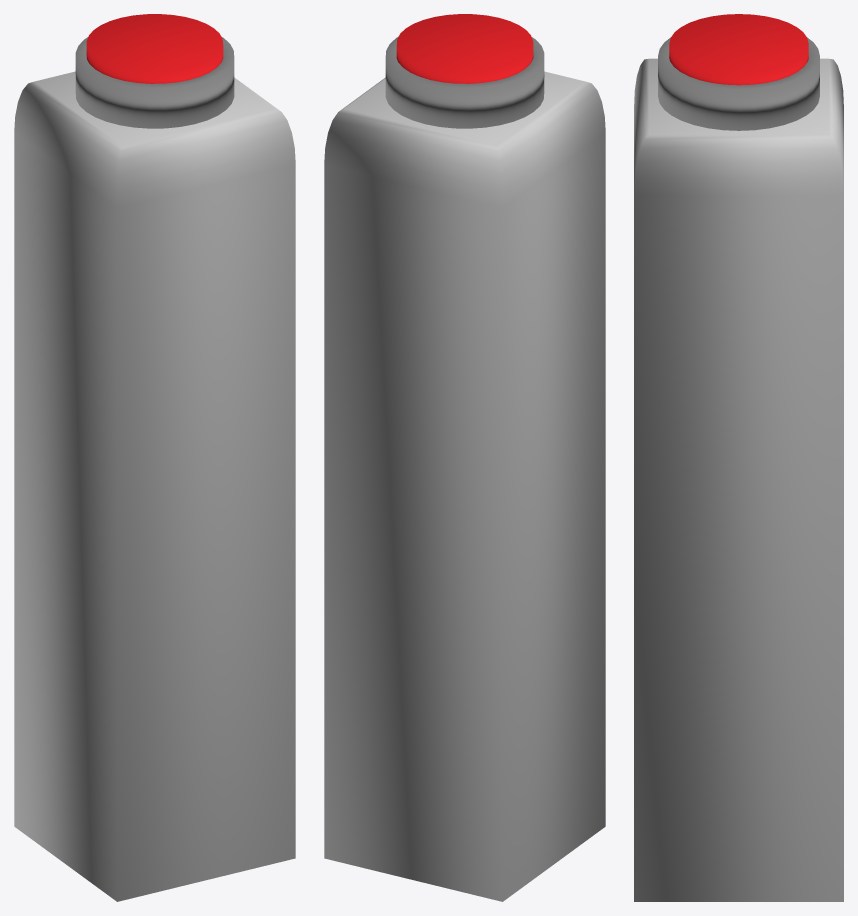
The model's file is Button.fbx.
3 renders of one model, left to right at view 1: azimuth 30°, elevation 25°; view 2: azimuth 150°, elevation 25°; view 3: azimuth 270°, elevation 25°, orthographic.
Parts seen in each view (by area): view 1: Cube, Cylinder.001, Cylinder; view 2: Cube, Cylinder.001, Cylinder; view 3: Cube, Cylinder.001, Cylinder.
Boxes of the visible parts, x1,y1,x2,y2 form: Cube: [14, 71, 295, 901]; Cylinder.001: [86, 14, 223, 83]; Cylinder: [75, 37, 234, 128]; Cube: [324, 71, 605, 901]; Cylinder.001: [396, 14, 533, 83]; Cylinder: [385, 37, 544, 128]; Cube: [634, 58, 843, 901]; Cylinder.001: [669, 14, 808, 85]; Cylinder: [658, 37, 819, 130].
Bounding box in the file's own units: 50 × 214 × 50.
